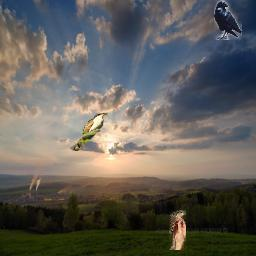Crow: (214, 0, 242, 40)
Cuckoo: (72, 112, 108, 152), (169, 210, 186, 250)
